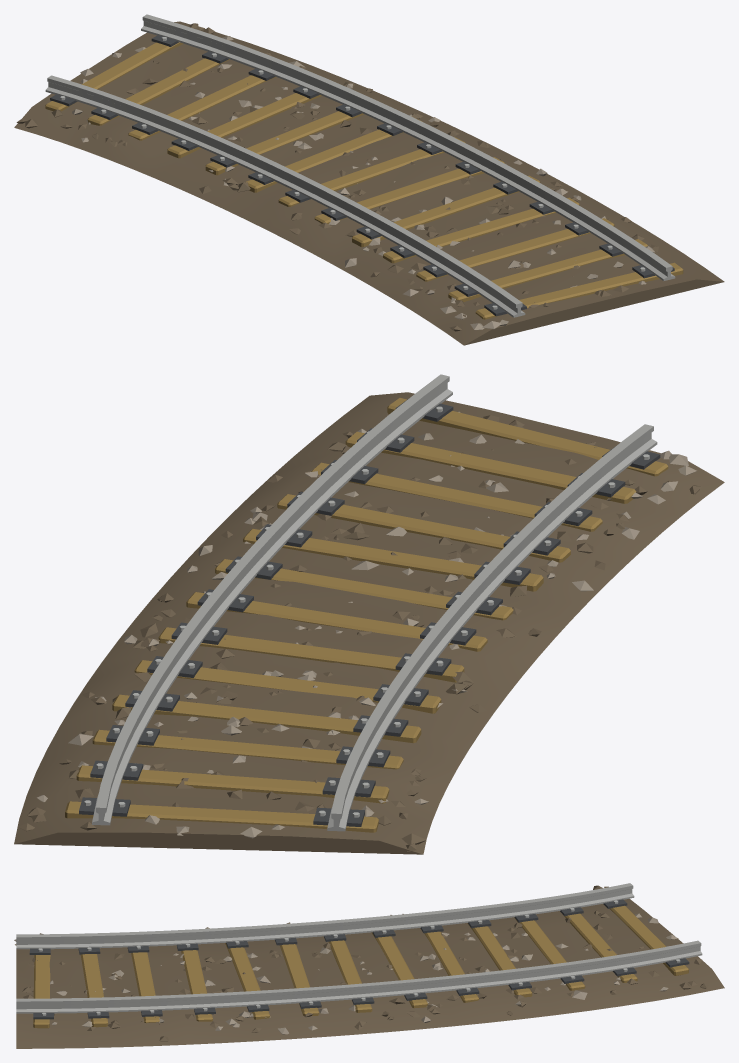
Rendered from curved-rail-a.glb.
3 views of the same model, one above another, from view 1: azimuth 30°, elevation 25°; view 2: azimuth 150°, elevation 25°; view 3: azimuth 270°, elevation 25° (orthographic). The views are drawn at different scales.
Parts seen in each view (by area): view 1: body; view 2: body; view 3: body.
Boxes of the visible parts, bbox=[...] form: body: bbox=[14, 14, 724, 345]; body: bbox=[14, 374, 724, 854]; body: bbox=[14, 883, 724, 1048].
Size of the model in its own units: 2.93 by 0.2216 by 5.47.
